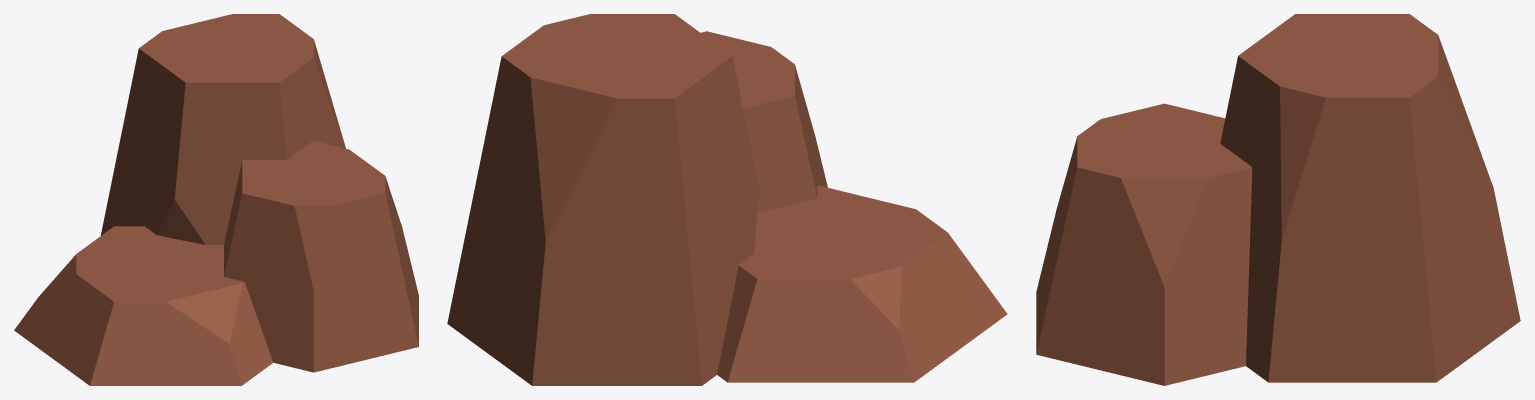
Rendered from rock.fbx.
The picture shows the model from 3 angles, left to right: view 1: azimuth 30°, elevation 25°; view 2: azimuth 150°, elevation 25°; view 3: azimuth 270°, elevation 25°; orthographic projection. The views are drawn at different scales.
Visible parts, largest first — view 1: rocks; view 2: rocks; view 3: rocks.
Boxes of the visible parts, x1=… form: rocks: x1=14, y1=14, x2=418, y2=385; rocks: x1=447, y1=14, x2=1007, y2=385; rocks: x1=1036, y1=14, x2=1520, y2=385.
Size of the model in its own units: 65.31 by 40 by 66.23.
